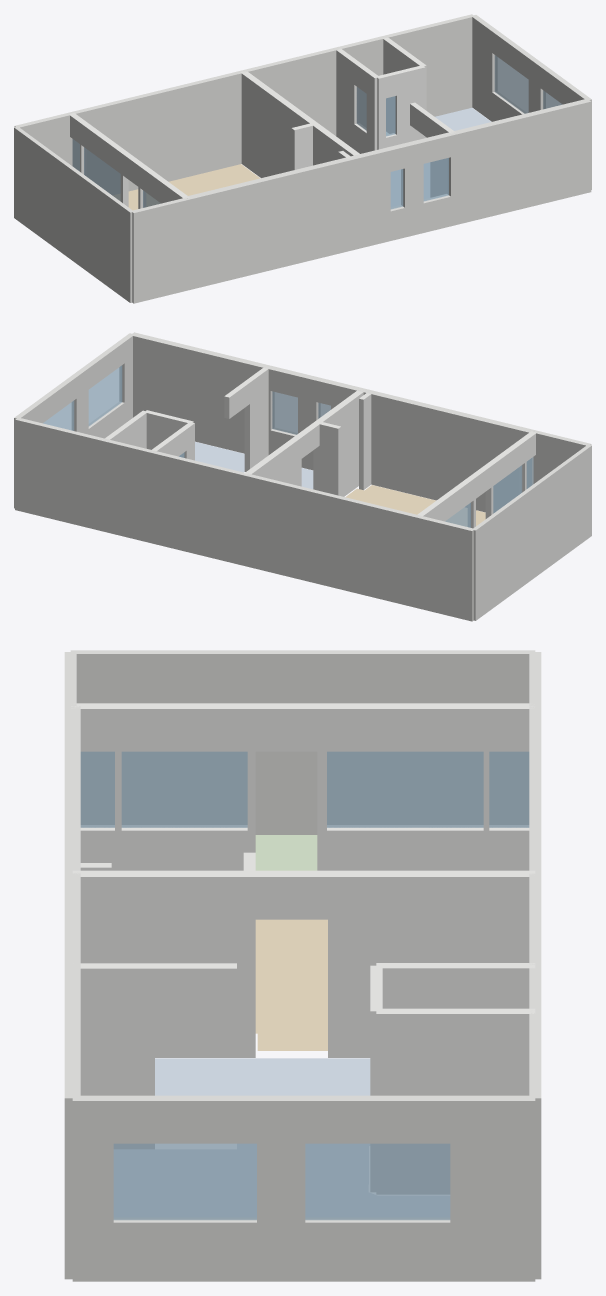
The model's file is Screenshot 2026-10-06 at 15-24-39 CubiCasa5k_3d.glb.
3 views of the same model, one above another, from view 1: azimuth 30°, elevation 25°; view 2: azimuth 150°, elevation 25°; view 3: azimuth 270°, elevation 25° (orthographic). The views are drawn at different scales.
Parts seen in each view (by area): view 1: wall_W8_10, wall_W11_19, wall_W2_1, wall_W13_21, wall_W12_20, wall_W5_4, wall_W16_38, wall_W3_2, wall_W10_12, wall_W21_49, wall_W10_15, wall_W18_42 (+31 smaller); view 2: wall_W2_1, wall_W8_10, wall_W13_21, wall_W11_19, wall_W3_2, wall_W5_4, wall_W1_0, wall_W4_3, wall_W19_47, wall_W17_41, wall_W7_9, floor_R2_living_67 (+27 smaller); view 3: wall_W13_21, floor_R3_bedroom_68, wall_W16_38, wall_W17_41, wall_W20_48, wall_W21_49, window_N2_57, window_N4_59, window_N6_61, wall_W19_47, window_N7_62, floor_R2_living_67 (+34 smaller).
Part boxes in pixels (x1=…): wall_W8_10: x1=187, y1=157, x2=352, y2=290; wall_W11_19: x1=453, y1=98, x2=591, y2=224; wall_W2_1: x1=70, y1=70, x2=243, y2=194; wall_W13_21: x1=14, y1=126, x2=132, y2=302; wall_W12_20: x1=131, y1=197, x2=188, y2=303; wall_W5_4: x1=383, y1=14, x2=474, y2=116; wall_W16_38: x1=240, y1=71, x2=297, y2=177; wall_W3_2: x1=242, y1=47, x2=338, y2=135; wall_W10_12: x1=357, y1=147, x2=390, y2=248; wall_W21_49: x1=471, y1=15, x2=497, y2=121; wall_W10_15: x1=401, y1=139, x2=423, y2=237; wall_W18_42: x1=336, y1=48, x2=358, y2=149; wall_W2_1: x1=245, y1=473, x2=419, y2=607; wall_W8_10: x1=369, y1=390, x2=535, y2=512; wall_W13_21: x1=472, y1=445, x2=591, y2=620; wall_W11_19: x1=130, y1=332, x2=269, y2=453; wall_W3_2: x1=151, y1=450, x2=245, y2=565; wall_W5_4: x1=15, y1=417, x2=106, y2=531; wall_W1_0: x1=417, y1=515, x2=474, y2=621; wall_W4_3: x1=104, y1=439, x2=152, y2=542; wall_W19_47: x1=244, y1=367, x2=269, y2=471; wall_W17_41: x1=315, y1=389, x2=364, y2=496; wall_W7_9: x1=316, y1=421, x2=341, y2=495; floor_R2_living_67: x1=345, y1=485, x2=485, y2=526; wall_W13_21: x1=70, y1=650, x2=535, y2=834; floor_R3_bedroom_68: x1=114, y1=1058, x2=449, y2=1217; wall_W16_38: x1=328, y1=870, x2=535, y2=1057; wall_W17_41: x1=72, y1=870, x2=249, y2=1057; wall_W20_48: x1=376, y1=1008, x2=535, y2=1194; wall_W21_49: x1=450, y1=1095, x2=535, y2=1281; window_N2_57: x1=327, y1=751, x2=483, y2=827; window_N4_59: x1=305, y1=1143, x2=450, y2=1220; window_N6_61: x1=113, y1=1143, x2=256, y2=1220; wall_W19_47: x1=80, y1=963, x2=154, y2=1148; window_N7_62: x1=121, y1=751, x2=247, y2=827; floor_R2_living_67: x1=255, y1=919, x2=327, y2=1050.
Bounding box in the file's own units: 14.69 × 2.75 × 6.57.
